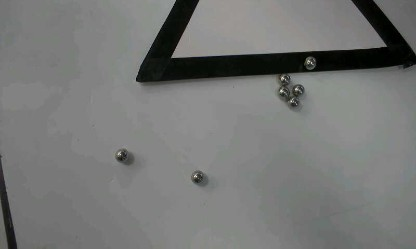ironball: (114, 148, 128, 162), (190, 170, 203, 184), (304, 55, 316, 69), (291, 84, 304, 96), (278, 73, 290, 85), (278, 85, 289, 97), (287, 96, 299, 107)
